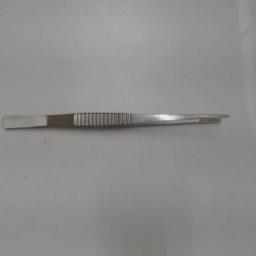DeBakey Dissector: (2, 104, 234, 134)
